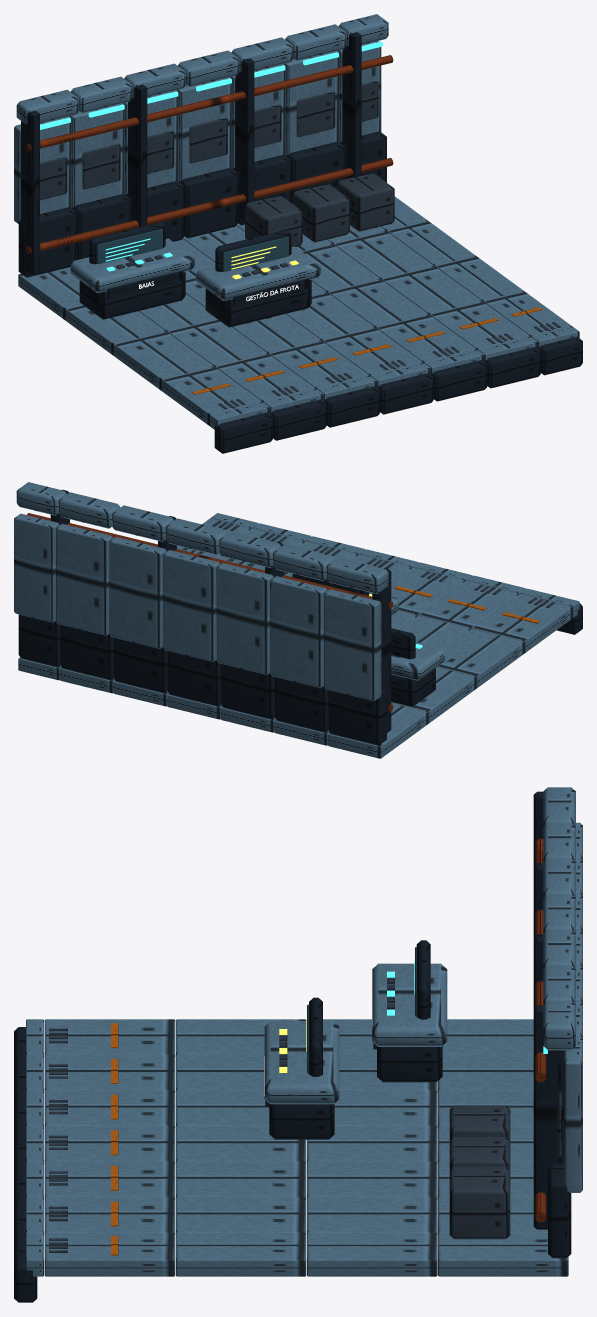
The model's file is colossal-hangar-console.glb.
3 renders of one model, top to bottom at view 1: azimuth 30°, elevation 25°; view 2: azimuth 150°, elevation 25°; view 3: azimuth 270°, elevation 25°, orthographic. The views are drawn at different scales.
Visible parts, largest first — view 1: Chapa modular do piso, Longarina frontal, Placa de inspeção, Tubulação longitudinal, Tela, Luz embutida, Sinalização do corredor; view 2: Chapa modular do piso, Longarina frontal, Tubulação longitudinal, Placa de inspeção, Sinalização do corredor; view 3: Chapa modular do piso, Longarina frontal, Placa de inspeção, Sinalização do corredor, Tubulação longitudinal.
Boxes of the visible parts, x1,y1,x2,y2 form: Chapa modular do piso: (14,14,579,429); Longarina frontal: (18,32,582,453); Placa de inspeção: (40,80,561,409); Tubulação longitudinal: (26,55,393,253); Tela: (97,229,288,271); Luz embutida: (40,41,382,271); Sinalização do corredor: (192,307,542,394); Chapa modular do piso: (14,482,579,758); Longarina frontal: (18,489,582,745); Tubulação longitudinal: (27,513,393,711); Placa de inspeção: (212,520,554,607); Sinalização do corredor: (394,586,540,623); Chapa modular do piso: (26,787,582,1276); Longarina frontal: (14,791,571,1302); Placa de inspeção: (49,978,561,1252); Sinalização do corredor: (111,1023,118,1255); Tubulação longitudinal: (535,838,546,1222).
Size of the model in its own units: 122 by 65.5 by 122.
9 materials, 5 textured.
